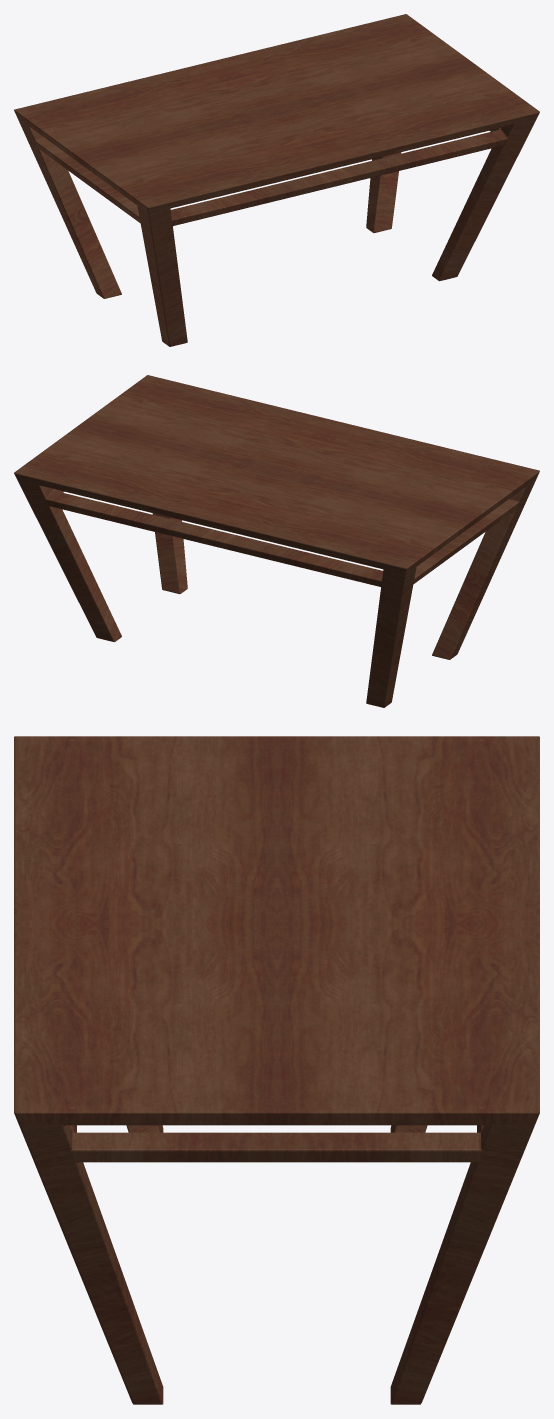
The model's file is office.reception.table.fbx.
3 views of the same model, one above another, from view 1: azimuth 30°, elevation 25°; view 2: azimuth 150°, elevation 25°; view 3: azimuth 270°, elevation 25° (orthographic). The views are drawn at different scales.
Visible parts, largest first — view 1: Table.Reception; view 2: Table.Reception; view 3: Table.Reception.
Boxes of the visible parts, left/top/right/bottom form: Table.Reception: left=14, top=14, right=539, bottom=346; Table.Reception: left=14, top=375, right=539, bottom=707; Table.Reception: left=14, top=736, right=539, bottom=1404.
Size of the model in its own units: 136 by 57.88 by 80.31.
Materials: 1 (1 with a texture image).
